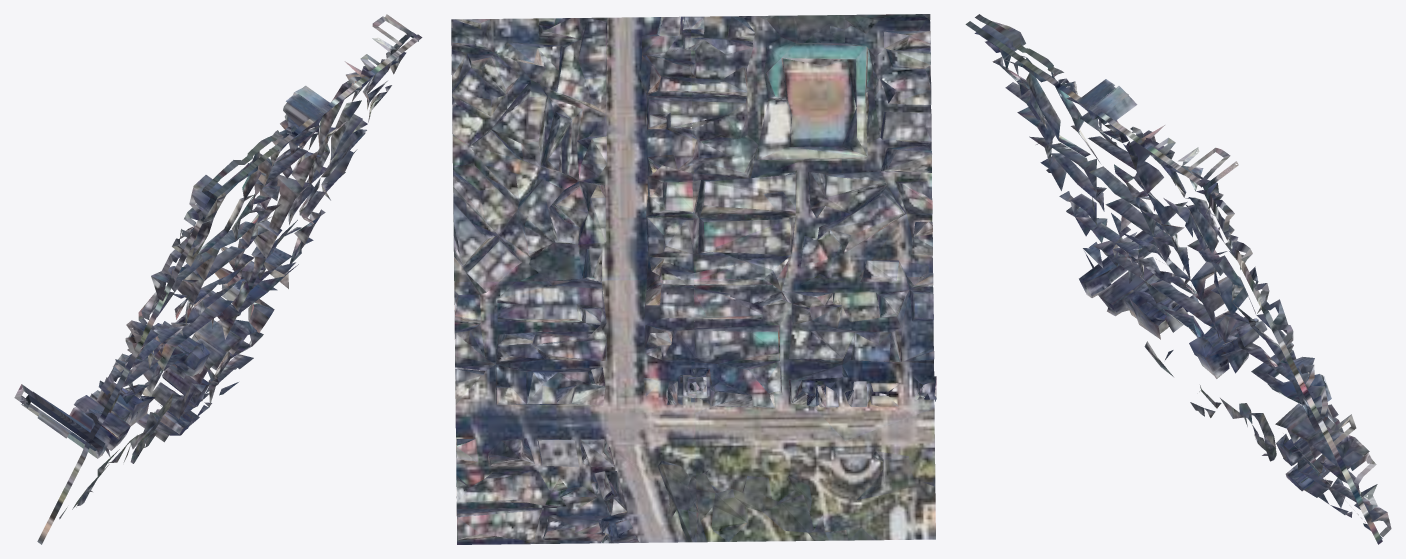
3 views of the same model, side by side, from view 1: azimuth 30°, elevation 25°; view 2: azimuth 150°, elevation 25°; view 3: azimuth 270°, elevation 25° (orthographic). The views are drawn at different scales.
Bounding box in the file's own units: 628 × 576 × 526.
Materials: 1 (1 with a texture image).
